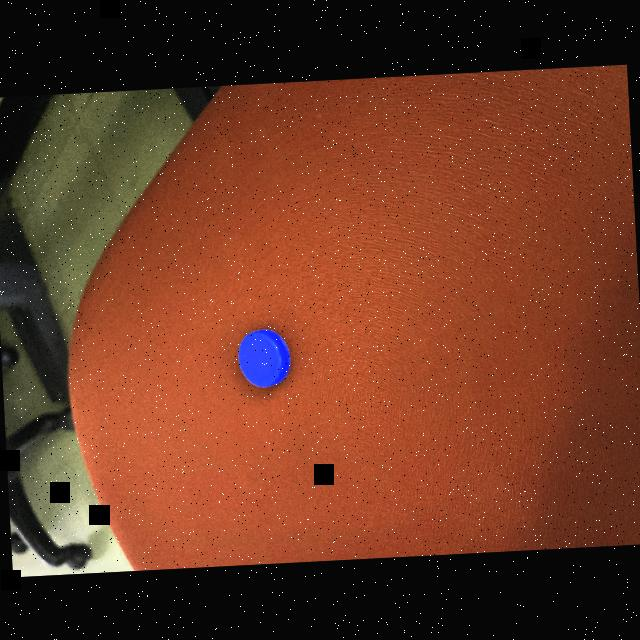plastic_bottle_cap: (230, 318, 294, 396)
